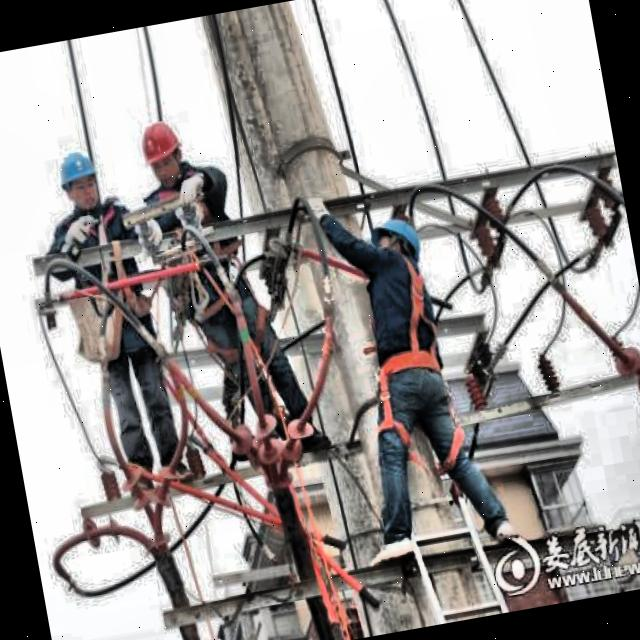helmet: (365, 205, 430, 278), (134, 112, 193, 190), (50, 140, 106, 218)
